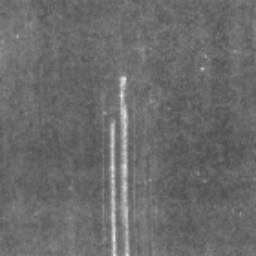Bright scratch: (120, 76, 129, 253), (111, 121, 117, 254)
